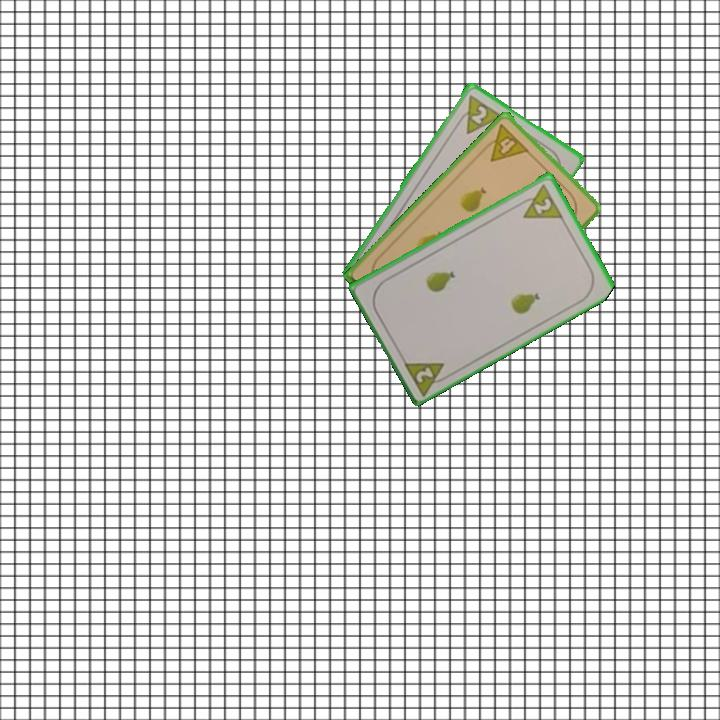2p: (452, 91, 505, 137), (513, 180, 566, 221), (400, 356, 453, 397)
4p: (478, 120, 532, 164)
